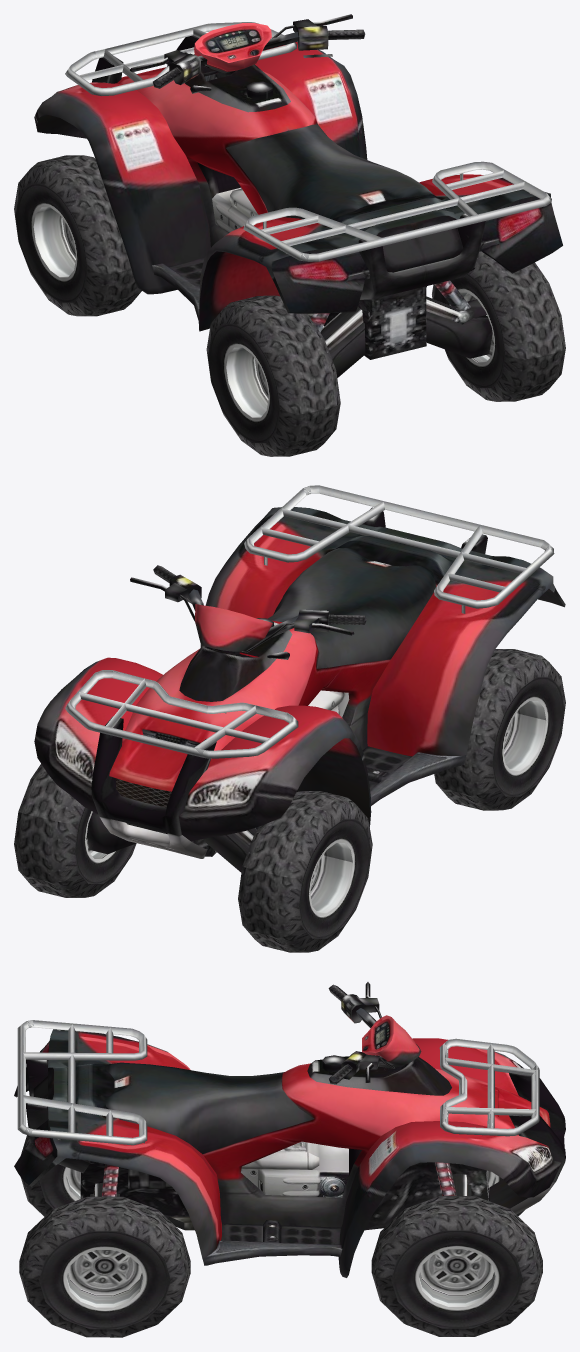
File: ATV.glb
3 renders of one model, top to bottom at view 1: azimuth 30°, elevation 25°; view 2: azimuth 150°, elevation 25°; view 3: azimuth 270°, elevation 25°, orthographic. The views are drawn at different scales.
Parts seen in each view (by area): view 1: ATV; view 2: ATV; view 3: ATV.
Boxes of the visible parts, left/top/right/bottom form: ATV: left=14, top=14, right=565, bottom=456; ATV: left=14, top=485, right=565, bottom=952; ATV: left=14, top=982, right=565, bottom=1337.
Size of the model in its own units: 1.43 by 1.33 by 2.63.
Materials: 1 (1 with a texture image).
